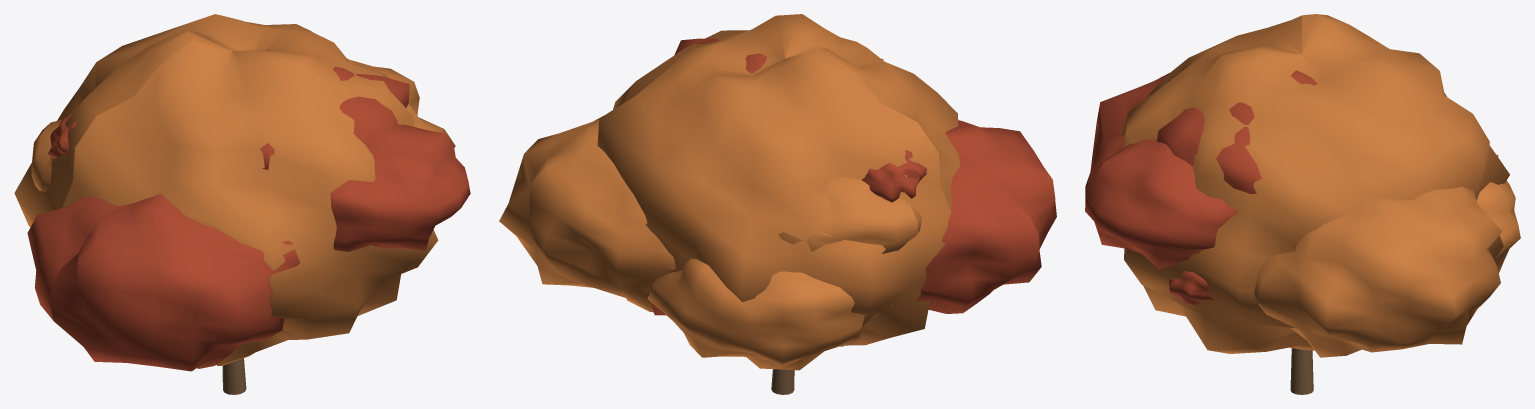
File: acer-buergerianum-osz.glb
3 renders of one model, left to right at view 1: azimuth 30°, elevation 25°; view 2: azimuth 150°, elevation 25°; view 3: azimuth 270°, elevation 25°, orthographic. The views are drawn at different scales.
Parts seen in each view (by area): view 1: korona-1, korona-2, korona-6, korona-4, korona-7, korona-3, torzs, folt-3; view 2: korona-1, korona-3, korona-2, korona-5, korona-7, folt-3, korona-4, torzs; view 3: korona-1, korona-3, korona-6, korona-4, korona-5, korona-2, torzs, folt-1.
Boxes of the visible parts, x1,y1,x2,y2 form: korona-1: (14,14,438,365); korona-2: (27,193,300,371); korona-6: (330,124,470,251); korona-4: (260,49,409,169); korona-7: (31,114,71,191); korona-3: (347,58,455,147); torzs: (222,358,246,394); folt-3: (48,117,76,158); korona-1: (597,14,960,370); korona-3: (499,116,675,310); korona-2: (916,120,1056,313); korona-5: (647,258,893,366); korona-7: (778,177,921,253); folt-3: (862,150,926,202); korona-4: (674,38,883,73); torzs: (771,369,794,394); korona-1: (1120,14,1509,353); korona-3: (1253,186,1503,357); korona-6: (1085,133,1238,269); korona-4: (1157,70,1316,193); korona-5: (1476,154,1520,273); korona-2: (1090,73,1169,171); torzs: (1290,348,1313,394); folt-1: (1169,271,1213,305).
Size of the model in its own units: 9.44 by 7.17 by 7.91.
